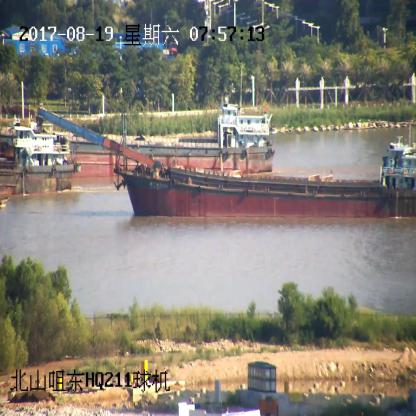Bulk Carrier: (38, 110, 416, 219), (73, 102, 276, 170), (0, 118, 73, 192)
